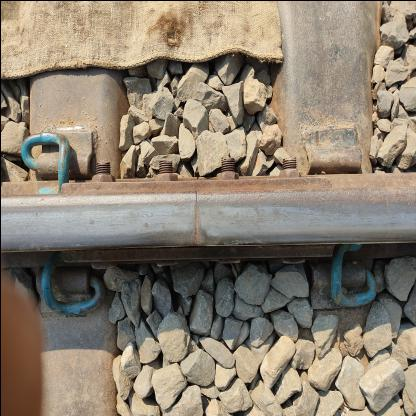Defective: (37, 216, 131, 320)
